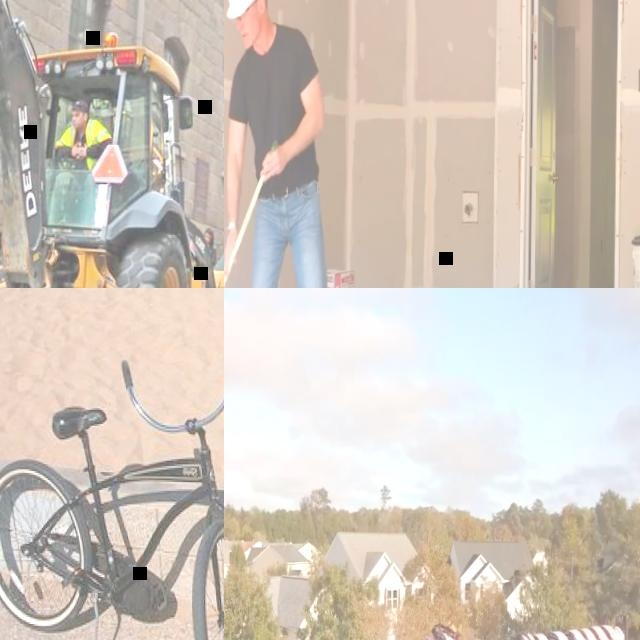Hardhat: (225, 0, 267, 18)
NO-Hardhat: (72, 98, 90, 110), (206, 225, 216, 234)
NO-Mask: (241, 0, 266, 48), (74, 116, 86, 128)
NO-Safety Vest: (240, 12, 322, 197), (210, 241, 218, 261)
Person: (224, 0, 344, 288), (56, 98, 113, 167), (204, 225, 217, 264)
Safety Vest: (65, 118, 103, 168)
machinery: (0, 0, 224, 288)
